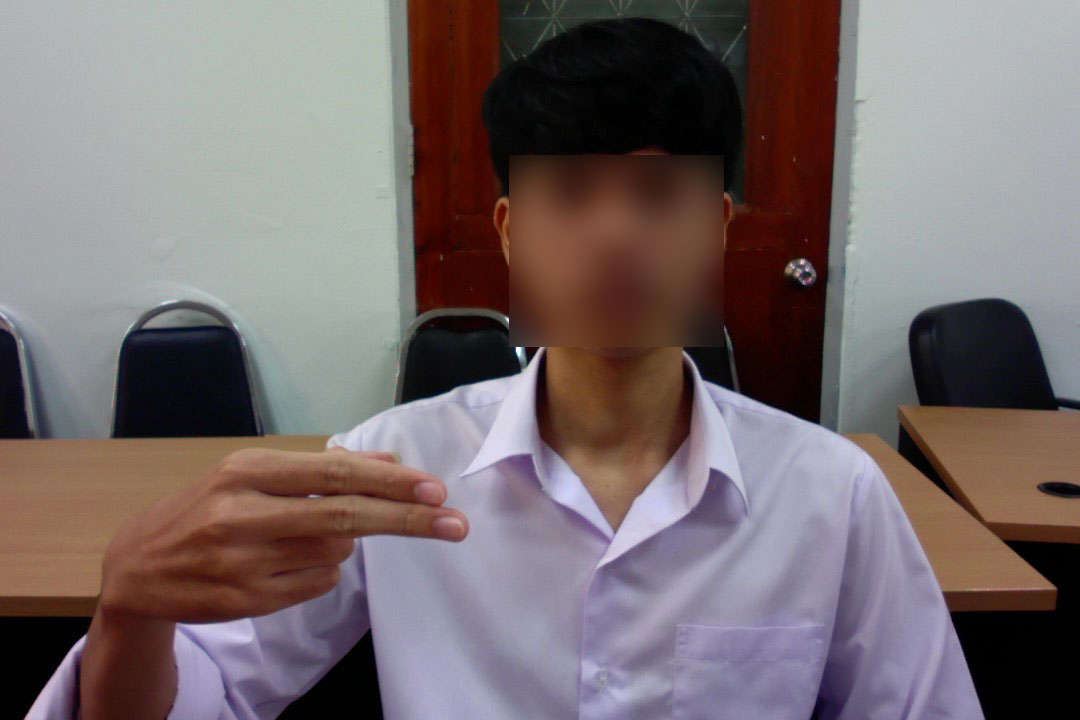hor: (75, 437, 478, 629)
